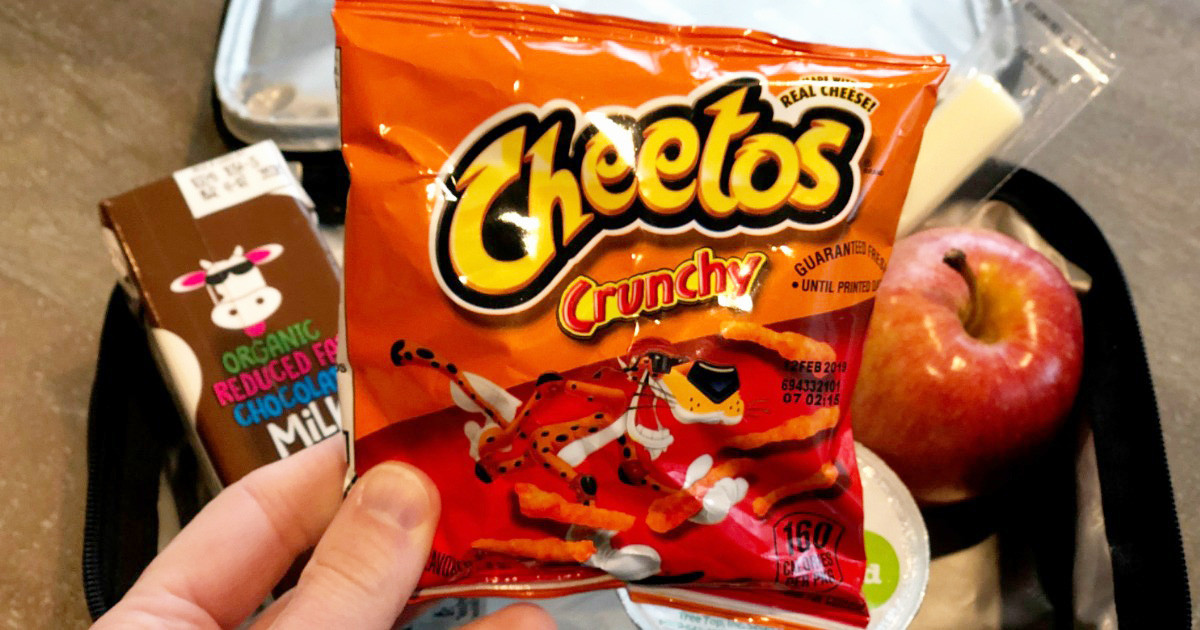cheetos: (334, 0, 921, 622)
